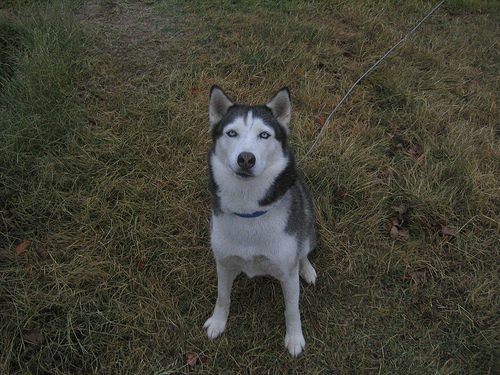dog: (197, 82, 321, 357)
